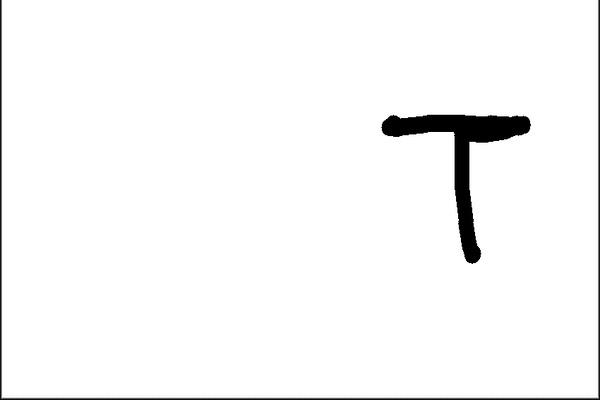T: (363, 107, 536, 267)
